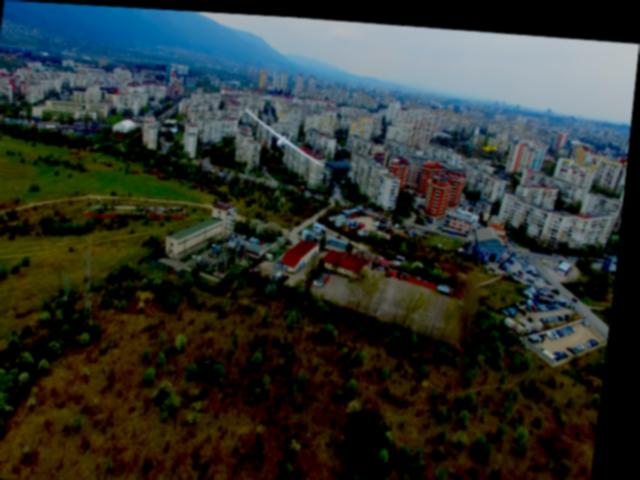plane: (242, 105, 330, 161)
